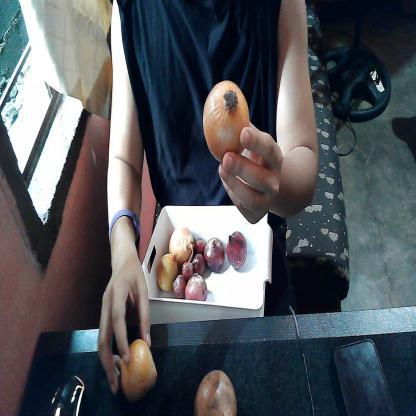onion: (199, 70, 253, 167)
